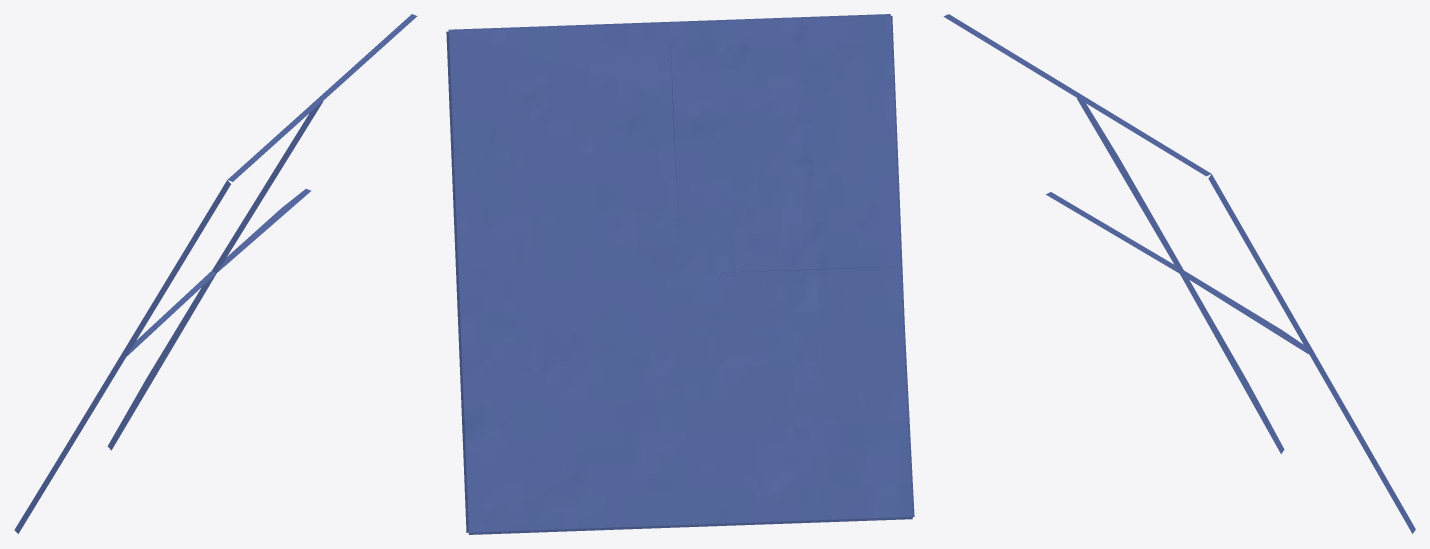
3 views of the same model, side by side, from view 1: azimuth 30°, elevation 25°; view 2: azimuth 150°, elevation 25°; view 3: azimuth 270°, elevation 25° (orthographic). The views are drawn at different scales.
Bounding box in the file's own units: 79027 × 69532 × 70942.
Materials: 1 (1 with a texture image).
